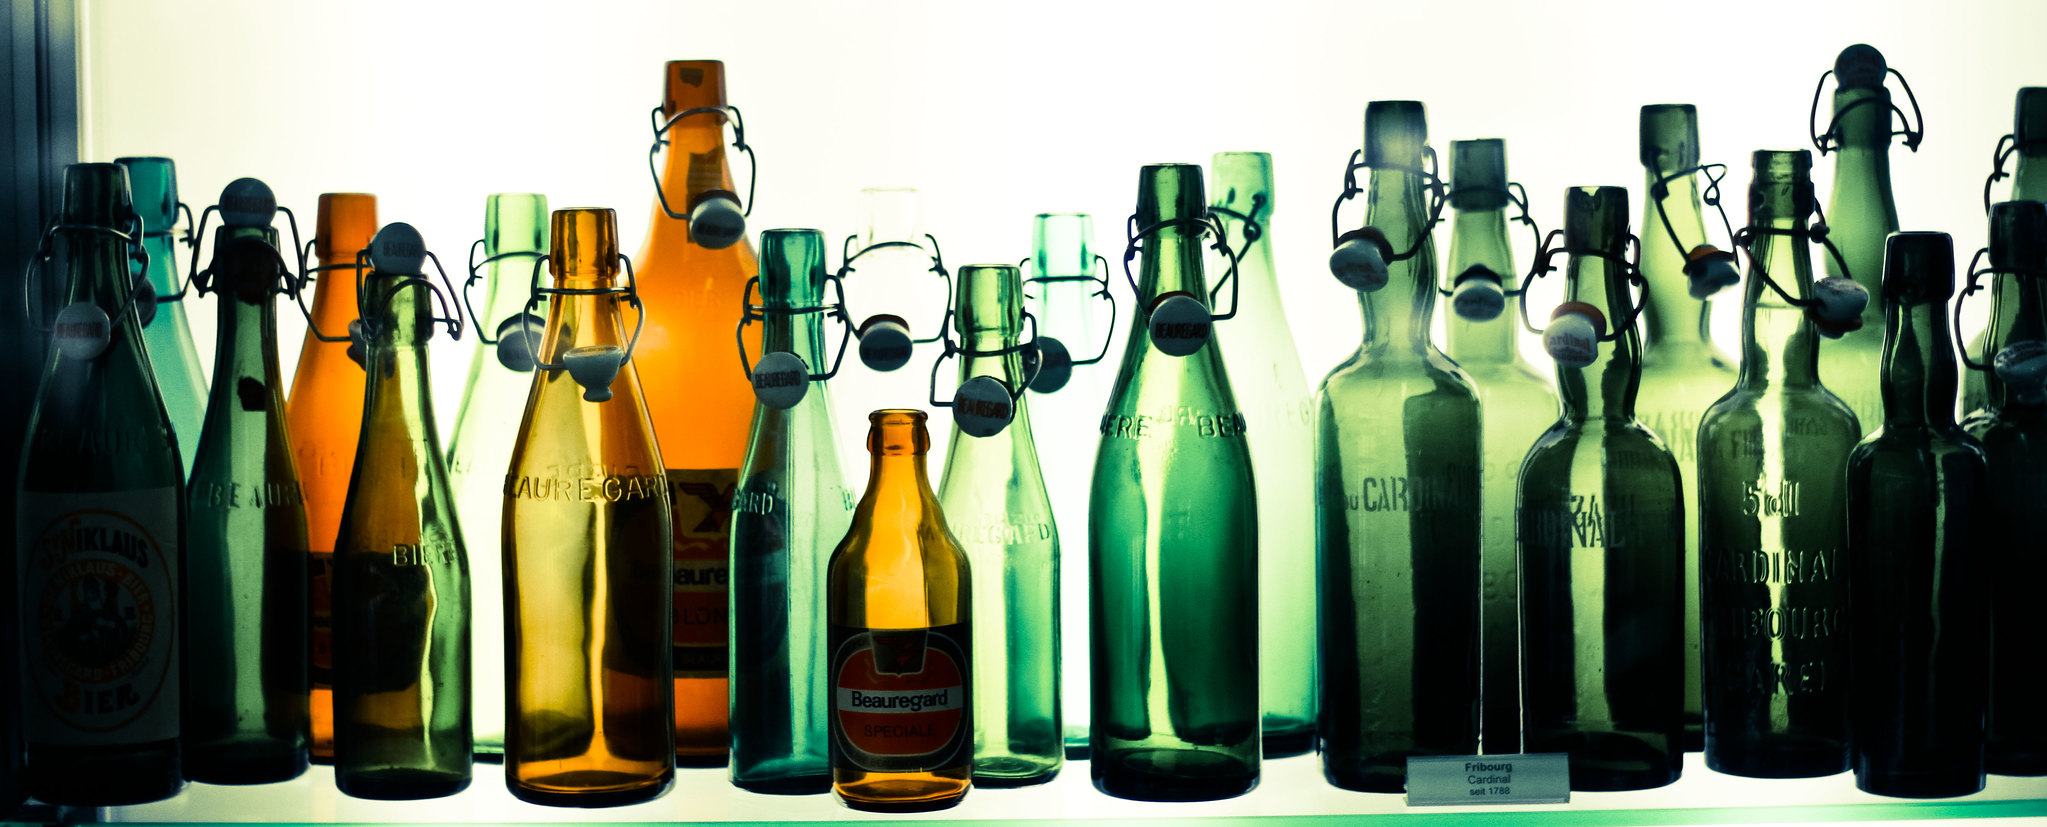bottle: (1300, 101, 1518, 796), (601, 60, 795, 764), (1086, 162, 1268, 803), (503, 205, 683, 814), (1696, 150, 1859, 789), (322, 238, 486, 796), (1849, 223, 1999, 800), (738, 233, 851, 800), (943, 263, 1063, 793), (832, 405, 980, 826)
